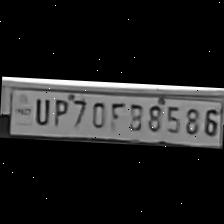0: (85, 96, 107, 128)
5: (162, 100, 182, 134)
6: (200, 102, 222, 136)
7: (68, 94, 86, 128)
8: (144, 100, 164, 132), (181, 102, 201, 134)
F: (107, 97, 125, 130)
P: (47, 94, 69, 126)
U: (30, 93, 52, 126)
